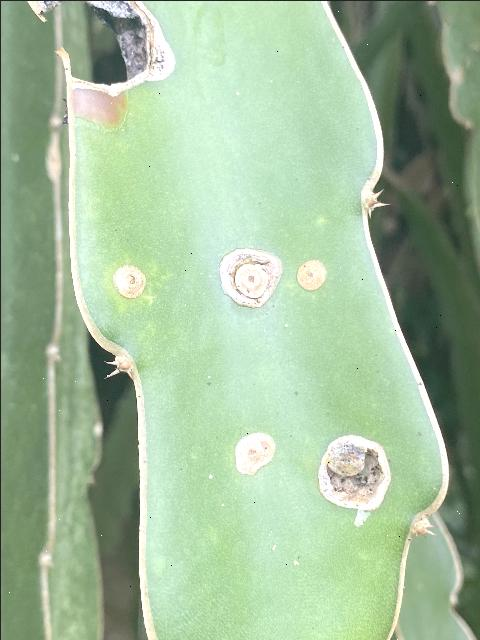stemcanker: (316, 427, 395, 525), (213, 242, 285, 311), (230, 427, 277, 478), (109, 258, 151, 302), (292, 255, 331, 296)
